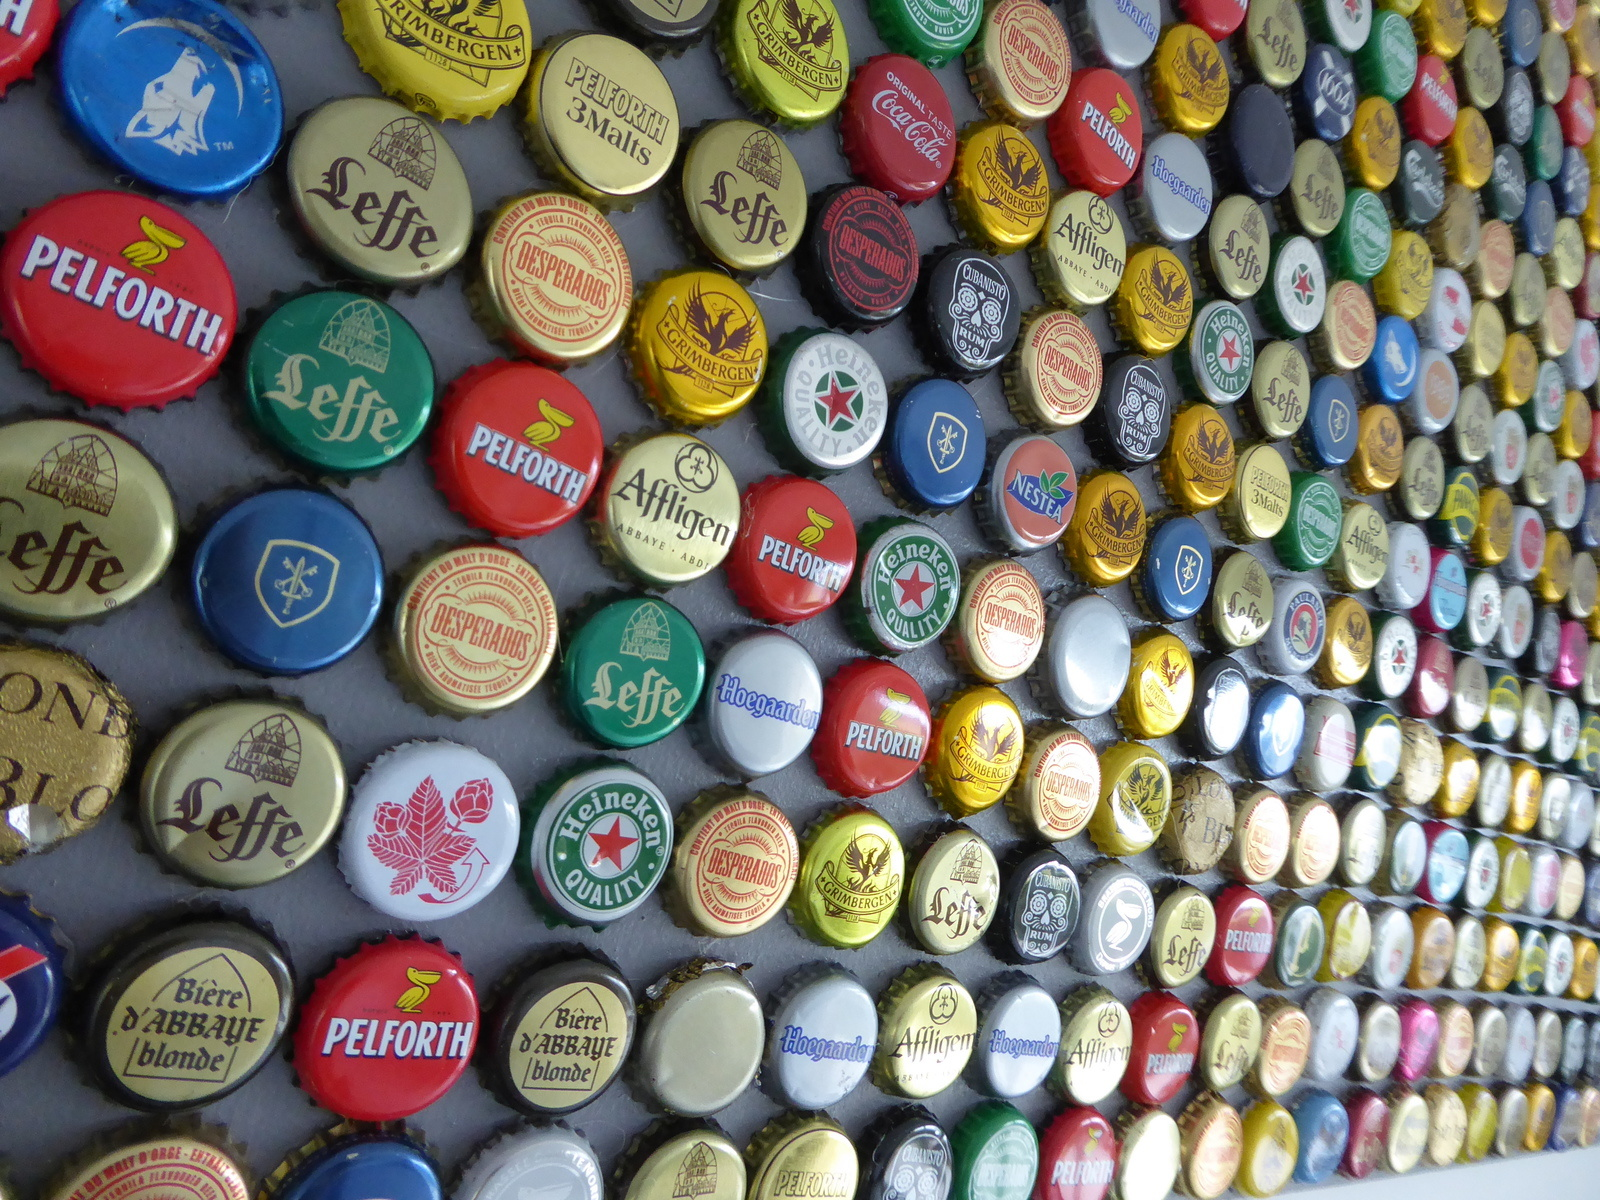heineken: (523, 756, 675, 934), (776, 332, 892, 471), (855, 518, 963, 658), (1191, 290, 1254, 405)
leffe: (134, 682, 346, 901), (1, 408, 181, 630), (289, 96, 480, 297), (680, 118, 813, 274), (903, 823, 1000, 959), (1208, 192, 1271, 301), (1150, 884, 1213, 991), (1254, 337, 1313, 439)
